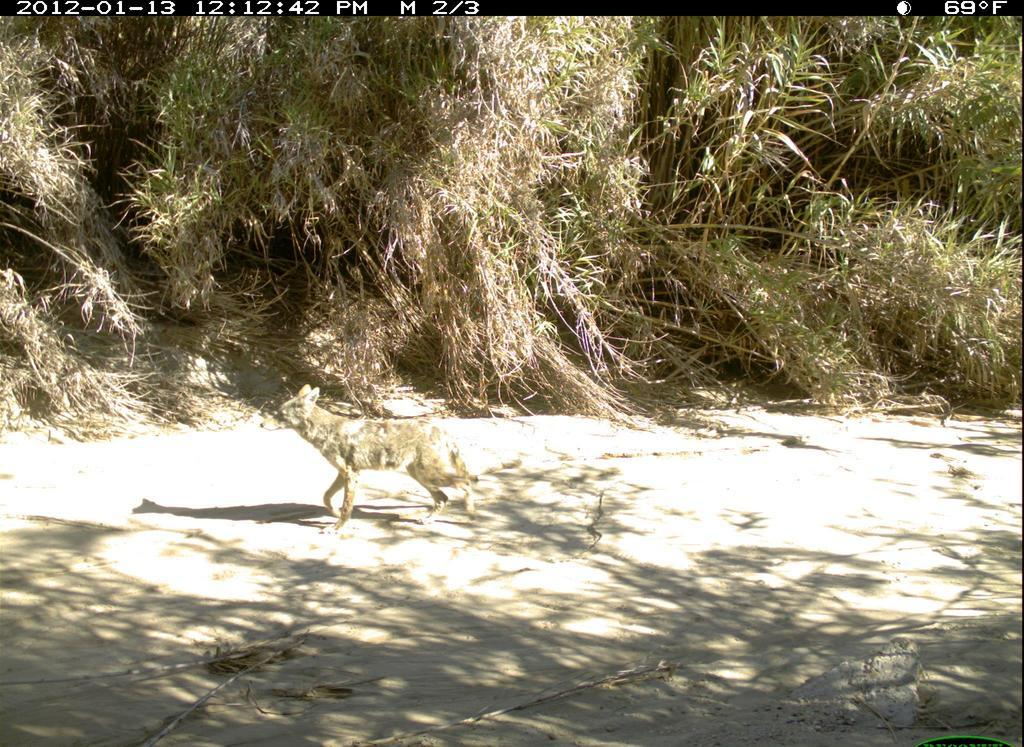coyote: (254, 379, 486, 539)
